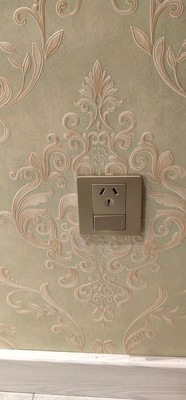switch: (90, 211, 129, 233)
